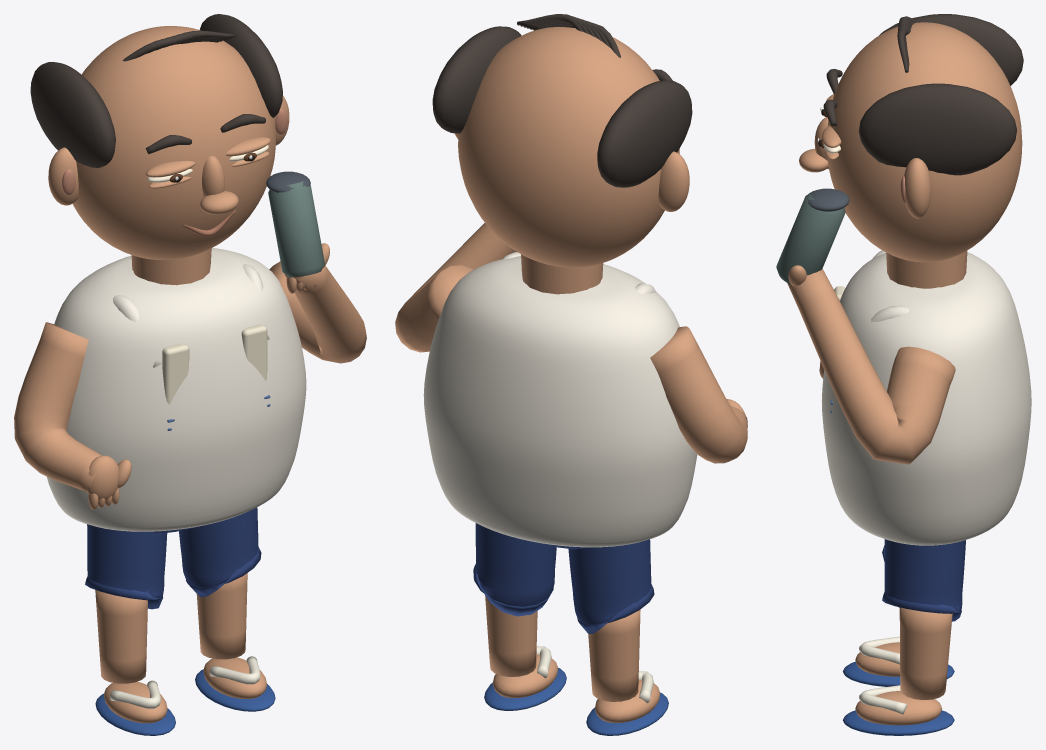
The model's file is uncle.glb.
The picture shows the model from 3 angles, left to right: view 1: azimuth 30°, elevation 25°; view 2: azimuth 150°, elevation 25°; view 3: azimuth 270°, elevation 25°; orthographic projection. The views are drawn at different scales.
Visible parts, largest first — view 1: Torso, SculptedHead, Arm, SideHair, TrouserLeg, Arm.001, TrouserLeg.001, BareCalf, TeaThermos, BareCalf.001, SideHair.001, Neck (+13 smaller); view 2: Torso, SculptedHead, Arm, SideHair, TrouserLeg, TrouserLeg.001, Arm.001, SideHair.001, BareCalf, BareCalf.001, Neck, Ear-1 (+4 smaller); view 3: Torso, SculptedHead, Arm.001, SideHair.001, TrouserLeg.001, BareCalf.001, TeaThermos, SideHair, Neck, Foot.001, BlueWhiteSole.001, Ear1 (+6 smaller).
Boxes of the visible parts, x1,y1,x2,y2 form: Torso: [47, 248, 306, 531]; SculptedHead: [72, 26, 275, 260]; Arm: [14, 322, 101, 491]; SideHair: [30, 62, 115, 168]; TrouserLeg: [85, 524, 167, 609]; Arm.001: [269, 261, 366, 363]; TrouserLeg.001: [179, 507, 261, 597]; BareCalf: [95, 590, 147, 683]; TeaThermos: [268, 181, 324, 277]; BareCalf.001: [196, 573, 247, 659]; SideHair.001: [199, 14, 282, 117]; Neck: [131, 248, 211, 285]; Torso: [423, 256, 697, 547]; SculptedHead: [458, 27, 679, 267]; Arm: [650, 326, 747, 463]; SideHair: [597, 80, 692, 187]; TrouserLeg: [568, 539, 654, 633]; TrouserLeg.001: [473, 523, 556, 616]; Arm.001: [395, 223, 517, 352]; SideHair.001: [432, 26, 521, 133]; BareCalf: [588, 609, 640, 701]; BareCalf.001: [485, 595, 537, 676]; Neck: [521, 254, 603, 294]; Ear-1: [658, 151, 689, 211]; Torso: [821, 252, 1031, 545]; SculptedHead: [827, 22, 1022, 262]; Arm.001: [787, 269, 955, 464]; SideHair.001: [858, 83, 1016, 175]; TrouserLeg.001: [882, 539, 965, 621]; BareCalf.001: [899, 607, 952, 699]; TeaThermos: [776, 192, 845, 284]; SideHair: [879, 14, 1023, 85]; Neck: [886, 250, 967, 288]; Foot.001: [855, 691, 941, 725]; BlueWhiteSole.001: [843, 710, 954, 735]; Ear1: [904, 158, 931, 218].
Size of the model in its own units: 1.25 by 2.39 by 0.8208.
